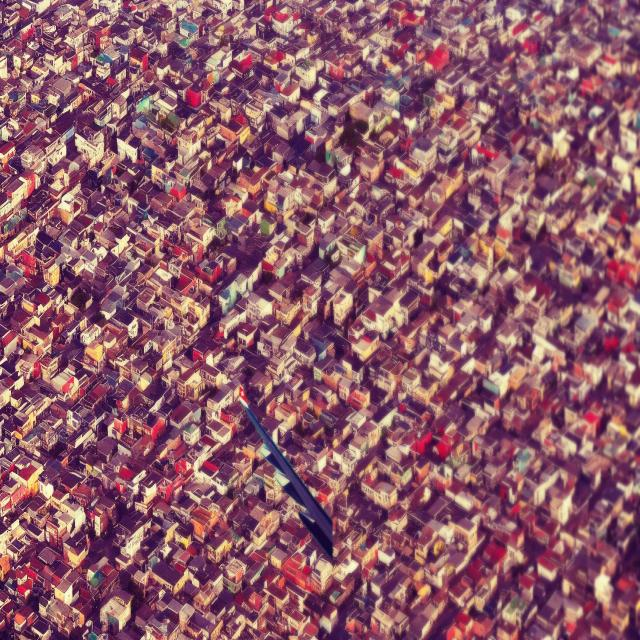airplane: (237, 384, 334, 559)
